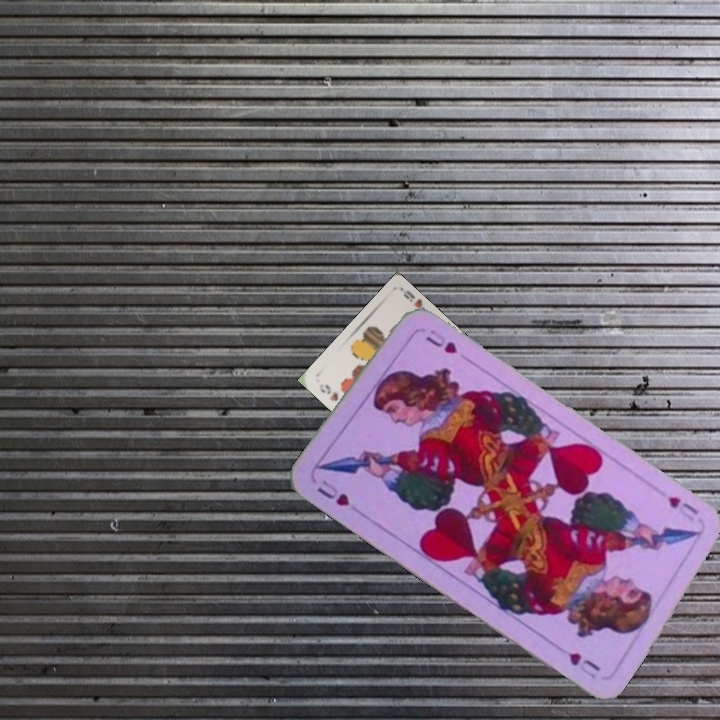H9: (315, 380, 341, 404)
HU: (313, 475, 352, 509), (663, 492, 701, 518)
